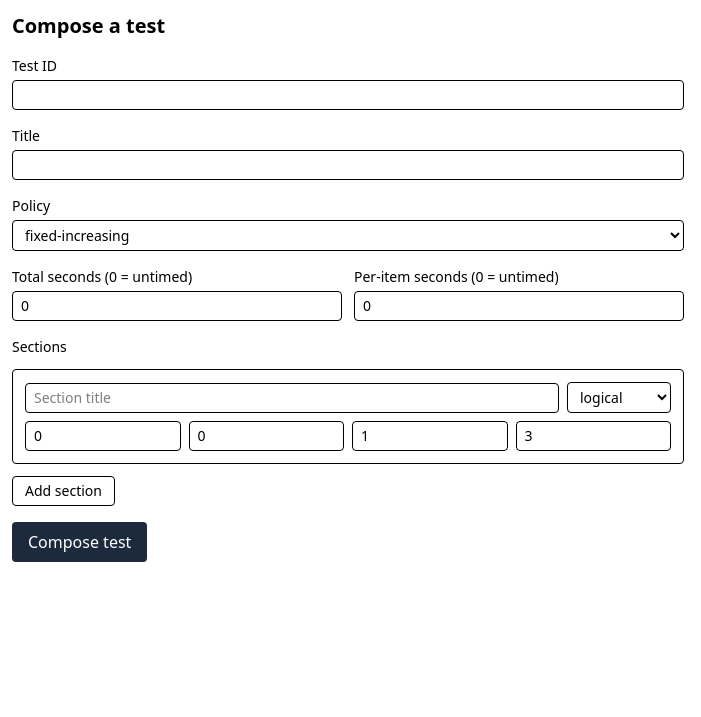
Scenario: Compose › posts a test with a sections array and renders the composed id
Type "t1" into the field labelled "Test ID" at (348, 95), box [12,80,684,110]
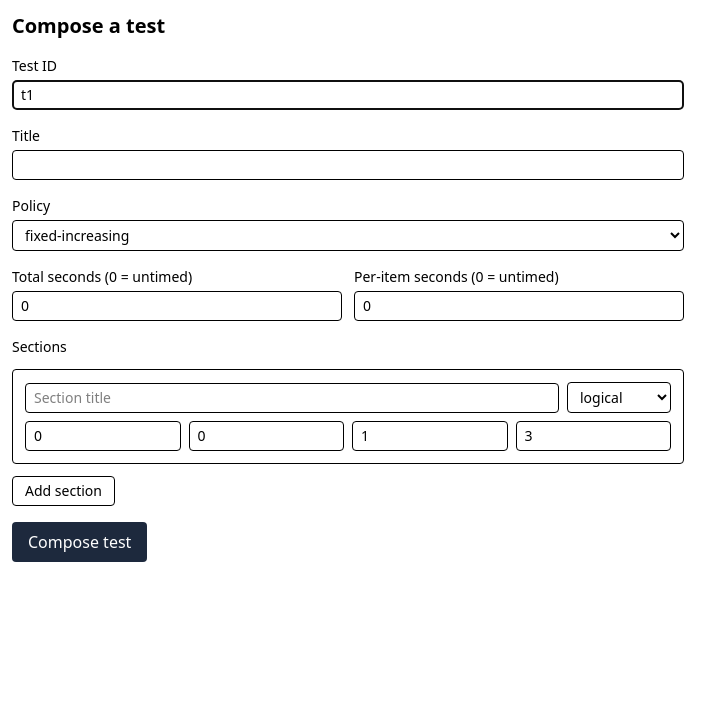
Type "My Test" into the field labelled "Title" at (348, 165), box [12,150,684,180]
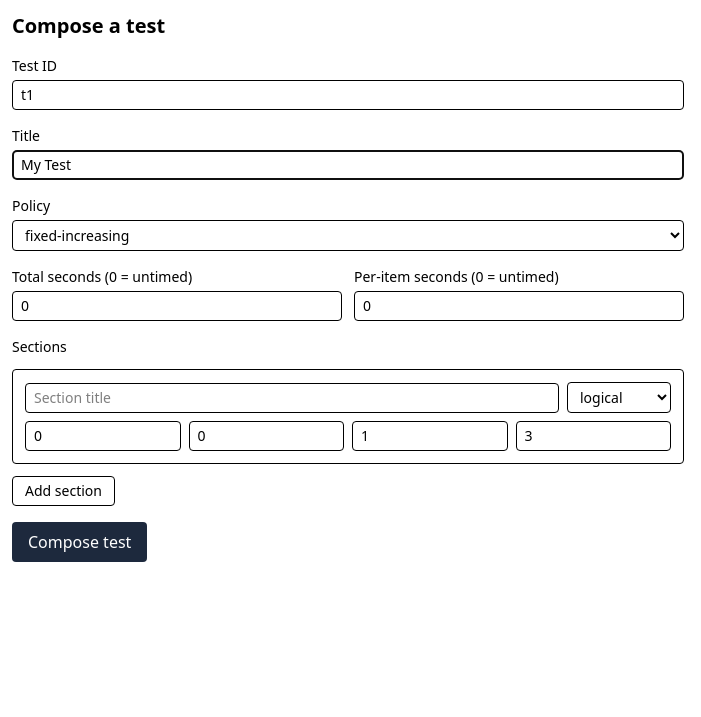
Click the button "Add section" at (63, 491), box [12,476,115,506]
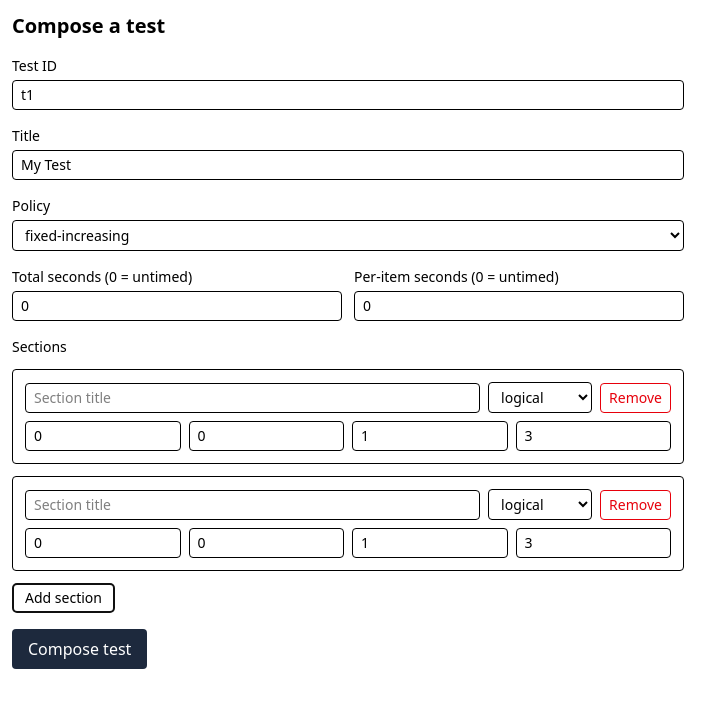
Click the button "Compose test" at (80, 649), box [12,629,147,669]
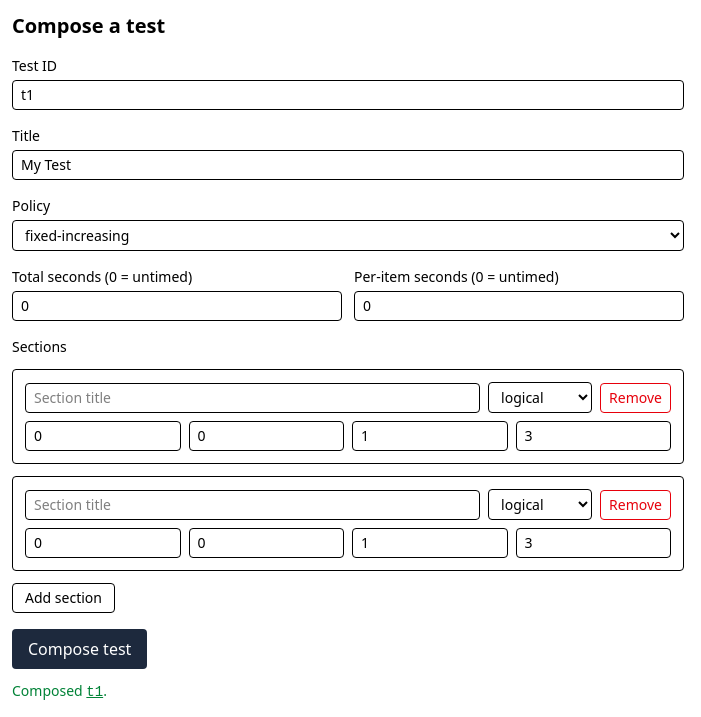
Now the link "t1" is shown, box [86,684,103,700]
